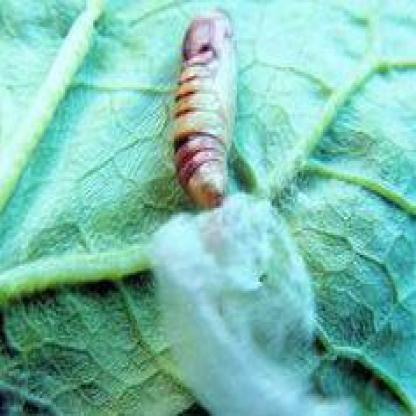armyworm: (168, 11, 241, 212)
